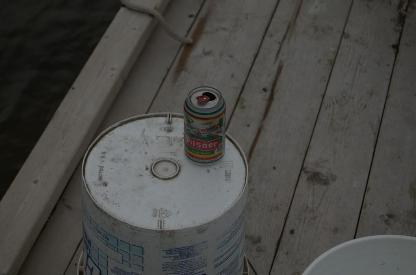Can: (184, 87, 228, 170)
